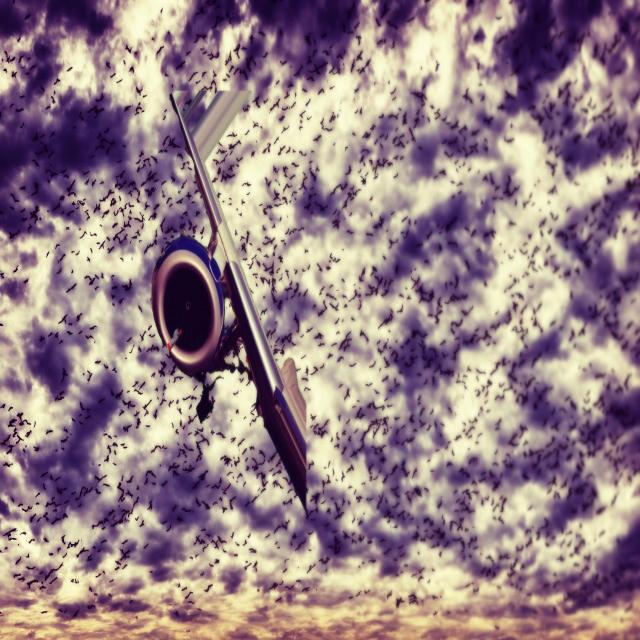airplane: (150, 84, 308, 516)
